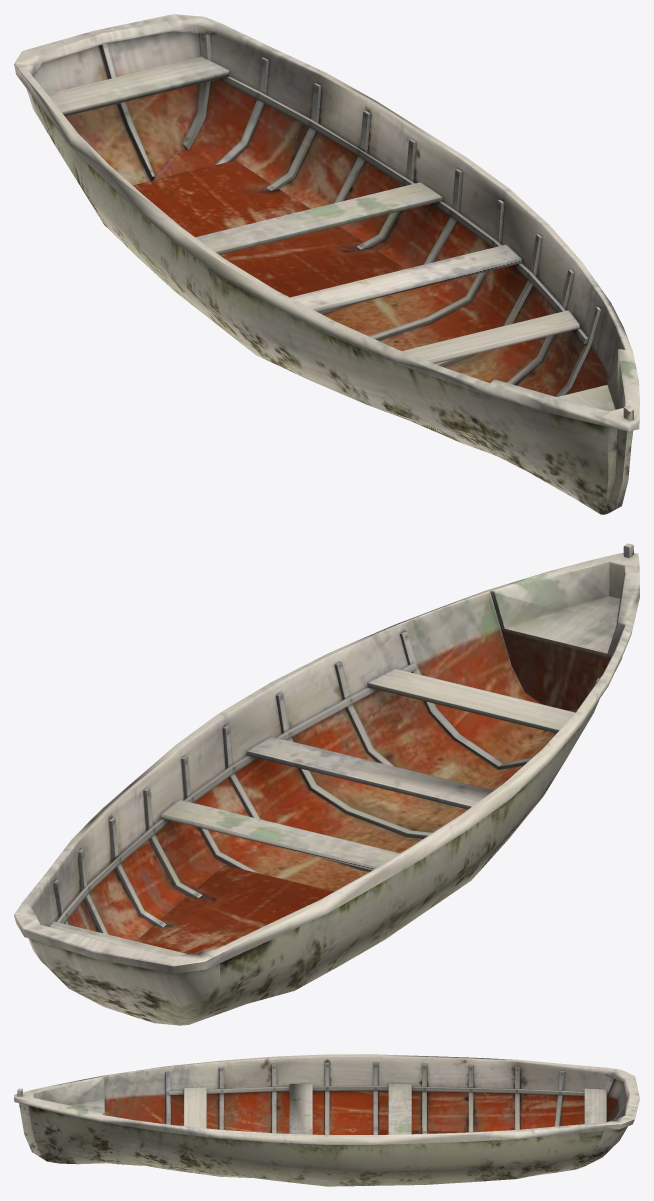
Rendered from rowboat.lod0.glb.
The picture shows the model from 3 angles, top to bottom: view 1: azimuth 30°, elevation 25°; view 2: azimuth 150°, elevation 25°; view 3: azimuth 270°, elevation 25°; orthographic projection. The views are drawn at different scales.
Visible parts, largest first — view 1: Object_2; view 2: Object_2; view 3: Object_2.
Part boxes in pixels (left/top/right/bottom): Object_2: left=14, top=14, right=639, bottom=514; Object_2: left=14, top=543, right=639, bottom=1025; Object_2: left=14, top=1054, right=639, bottom=1186.
Bounding box in the file's own units: 1.32 × 0.5706 × 4.2.
Materials: 1 (1 with a texture image).
